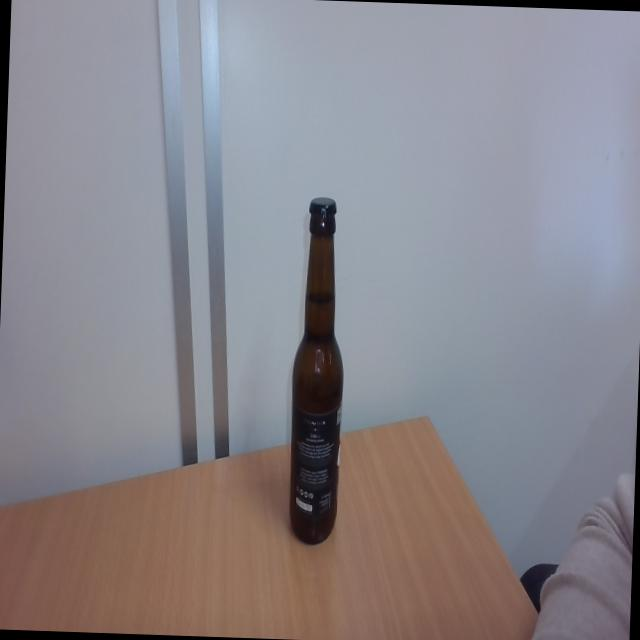Bottle: (286, 222, 346, 548)
Cap: (308, 192, 340, 225)
Label: (289, 407, 339, 520)
